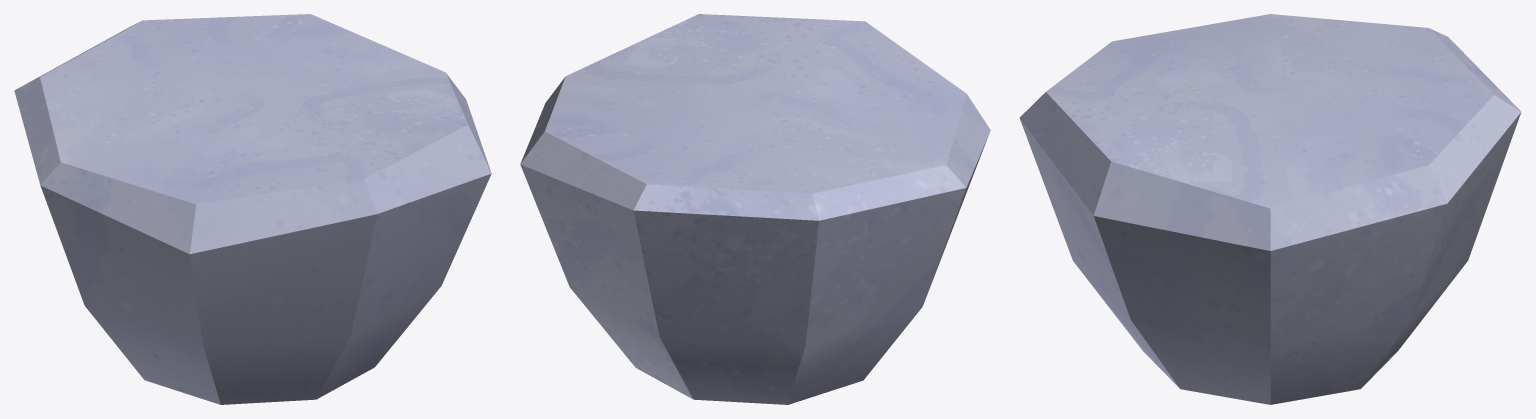
File: SM_spaceRock1.fbx
The picture shows the model from 3 angles, left to right: view 1: azimuth 30°, elevation 25°; view 2: azimuth 150°, elevation 25°; view 3: azimuth 270°, elevation 25°; orthographic projection. The views are drawn at different scales.
Parts seen in each view (by area): view 1: spaceRock1; view 2: spaceRock1; view 3: spaceRock1.
Boxes of the visible parts, <box> form: spaceRock1: <box>14,14,491,404</box>; spaceRock1: <box>520,14,990,404</box>; spaceRock1: <box>1019,14,1521,404</box>.
Bounding box in the file's own units: 23.48 × 13.52 × 23.64.
